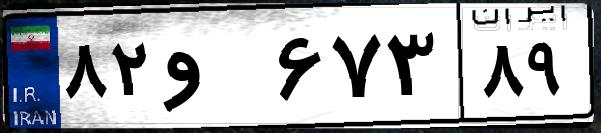2: (110, 28, 158, 98)
3: (385, 28, 445, 110)
6: (270, 28, 330, 110)
7: (330, 28, 385, 110)
8: (57, 26, 110, 100), (475, 38, 525, 113)
9: (525, 38, 570, 115)
و: (158, 20, 270, 120)
